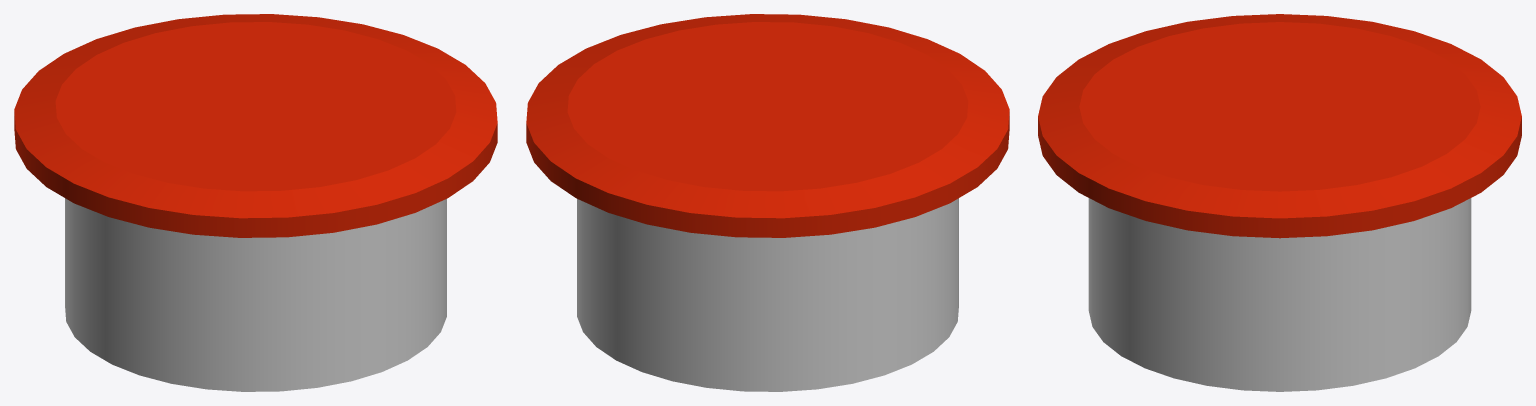
The model's file is 3_podium_low.fbx.
3 renders of one model, left to right at view 1: azimuth 30°, elevation 25°; view 2: azimuth 150°, elevation 25°; view 3: azimuth 270°, elevation 25°, orthographic.
Parts seen in each view (by area): view 1: 3_low; view 2: 3_low; view 3: 3_low.
Part boxes in pixels (x1,y1,x2,y2): 3_low: [14, 14, 497, 391]; 3_low: [526, 14, 1009, 391]; 3_low: [1038, 14, 1521, 391].
Bounding box in the file's own units: 463 × 216 × 463.
